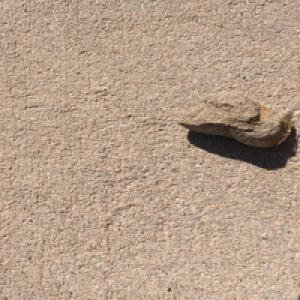Rock: (175, 89, 296, 148)
